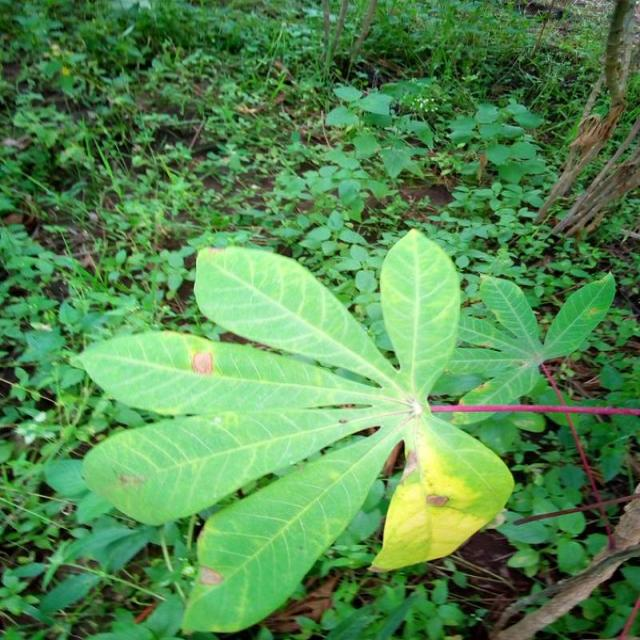cassava leaf: (70, 228, 617, 634)
